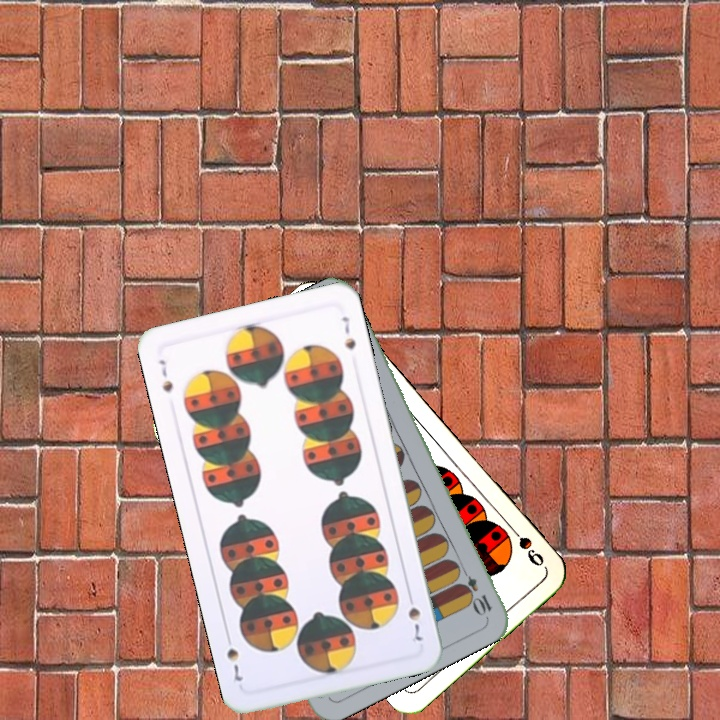E10: (455, 562, 495, 618)
S7: (404, 588, 425, 644), (154, 355, 176, 395)
S9: (504, 520, 547, 570)
